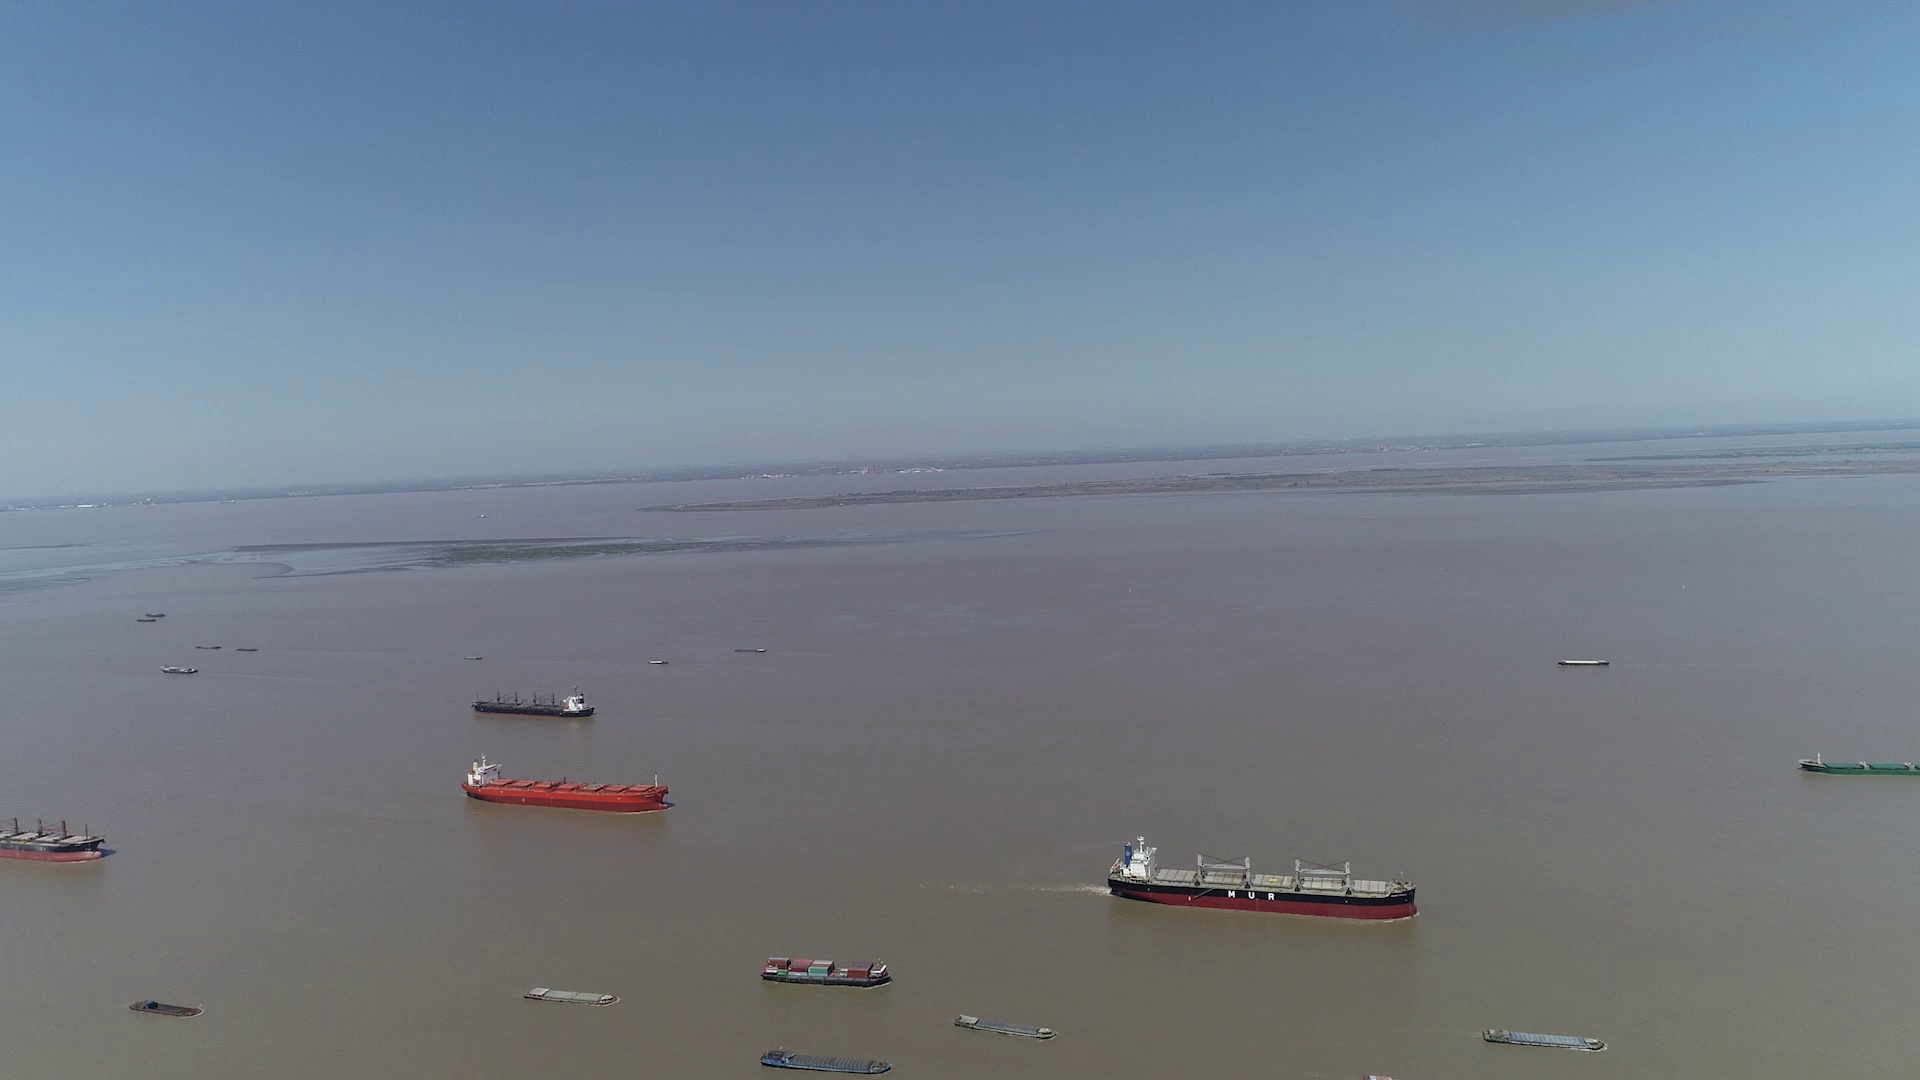ship: (1109, 836, 1420, 922), (463, 752, 669, 814), (3, 808, 109, 861), (761, 956, 890, 986), (472, 687, 595, 719), (760, 1048, 895, 1073), (1482, 1027, 1605, 1051), (1799, 752, 1920, 775), (952, 1014, 1055, 1040), (524, 984, 616, 1006), (129, 1000, 204, 1018), (1557, 658, 1607, 667), (161, 663, 196, 674)
